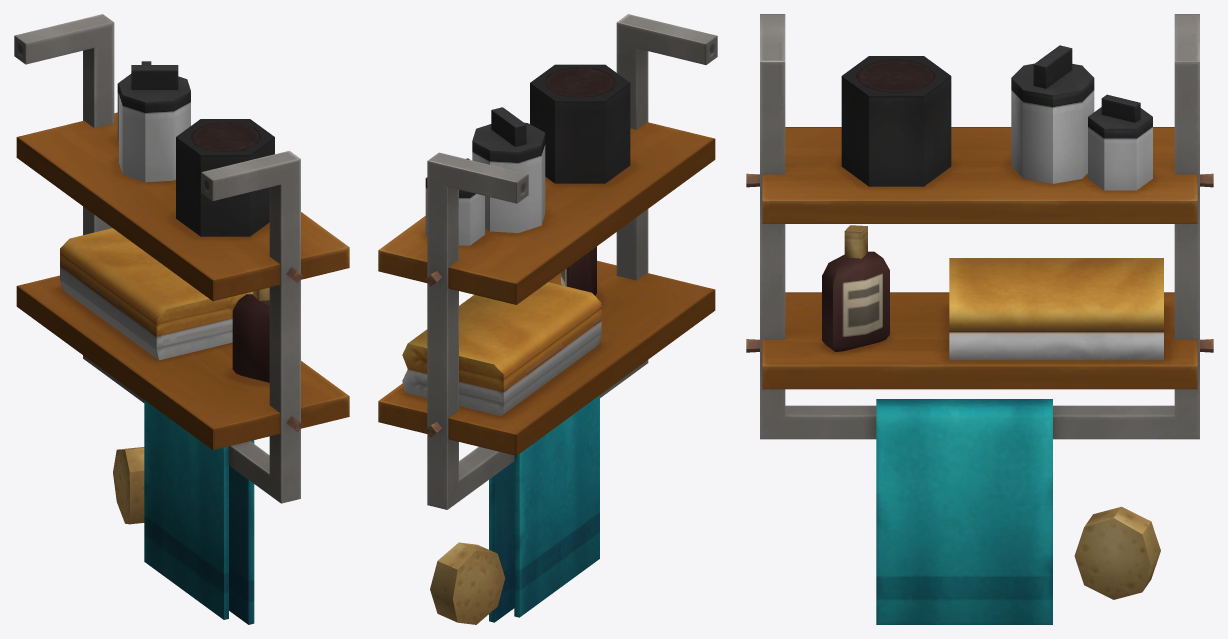
The model's file is tiered_shelf.glb.
3 views of the same model, side by side, from view 1: azimuth 30°, elevation 25°; view 2: azimuth 150°, elevation 25°; view 3: azimuth 270°, elevation 25° (orthographic). The views are drawn at different scales.
Visible parts, largest first — view 1: TinyLiving_TieredShelf; view 2: TinyLiving_TieredShelf; view 3: TinyLiving_TieredShelf.
Part boxes in pixels (bbox=[...]): TinyLiving_TieredShelf: bbox=[14, 14, 349, 624]; TinyLiving_TieredShelf: bbox=[378, 14, 717, 624]; TinyLiving_TieredShelf: bbox=[746, 14, 1213, 624].
Bounding box in the file's own units: 0.2965 × 1.03 × 0.7826.
Materials: 1 (1 with a texture image).
